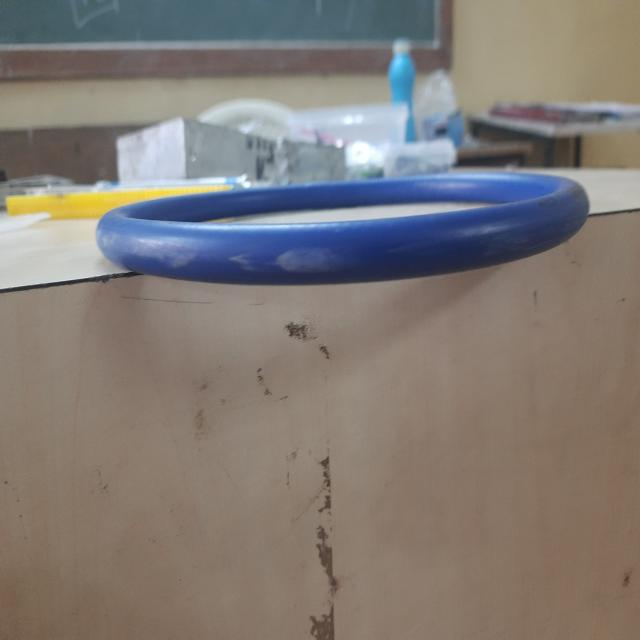daire: (98, 170, 585, 282)
